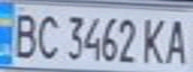2: (115, 13, 142, 64)
3: (60, 11, 84, 61)
4: (81, 11, 103, 62)
6: (100, 12, 121, 63)
A: (160, 15, 193, 65)
B: (6, 9, 42, 60)
C: (33, 10, 63, 61)
K: (139, 14, 172, 65)
